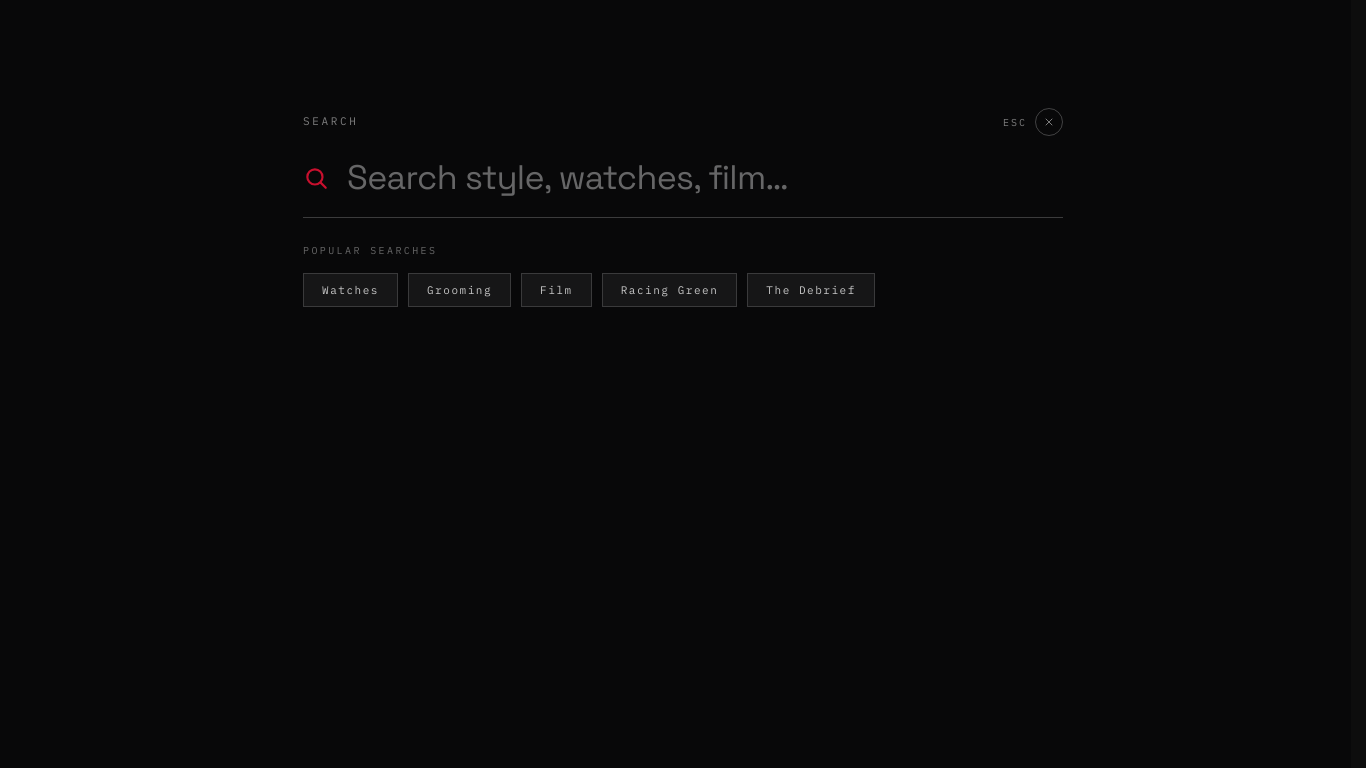
Test: SearchOverlay published index › searches every supplied published article rather than a prototype allowlist
Type "wardrobe" into the field named "Search editorial and store".
click(704, 177); type("wardrobe")  # box [345,158,1063,197]
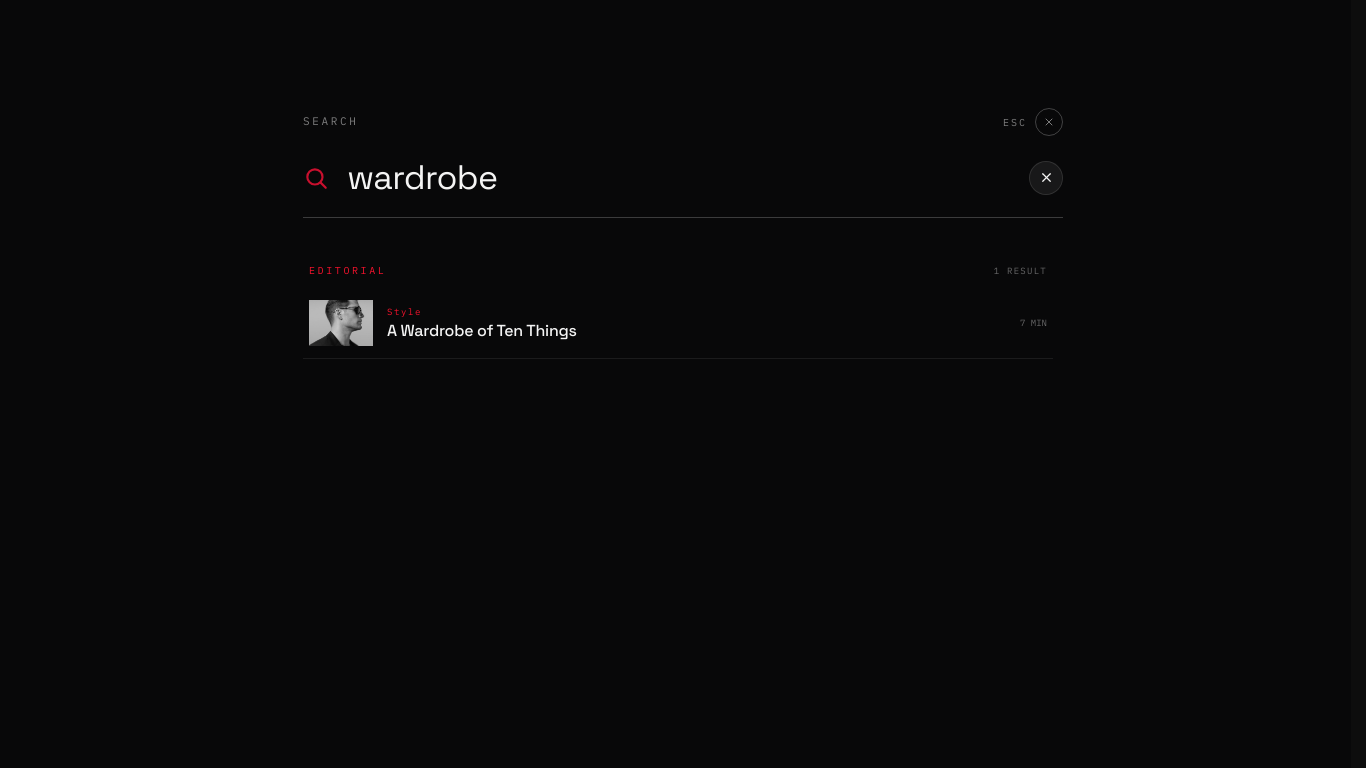
Now the link "Style A Wardrobe of Ten Things 7 MIN" is shown, box [303,288,1053,359]
